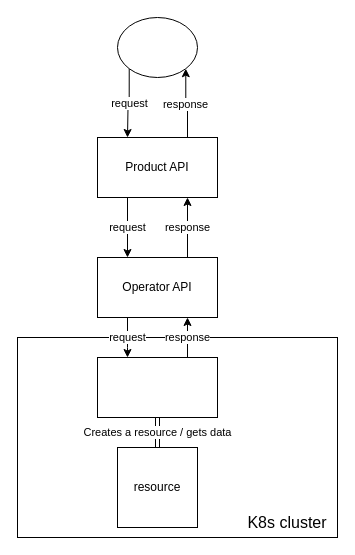
Some shapes in this 355 by 555 pixel diagram are drawn without their labels. Each missing label, with the centre of its shape:
"K8s API" belongs at (157,387).
"user" belongs at (157,47).
